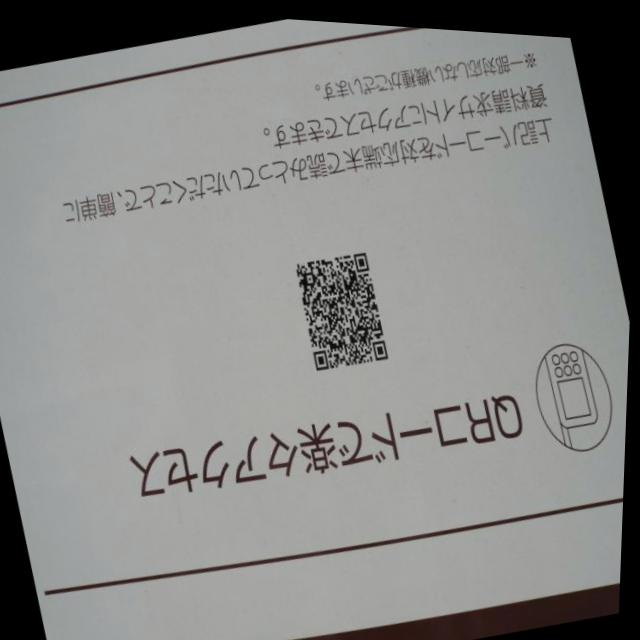qrcode: (294, 242, 393, 369)
